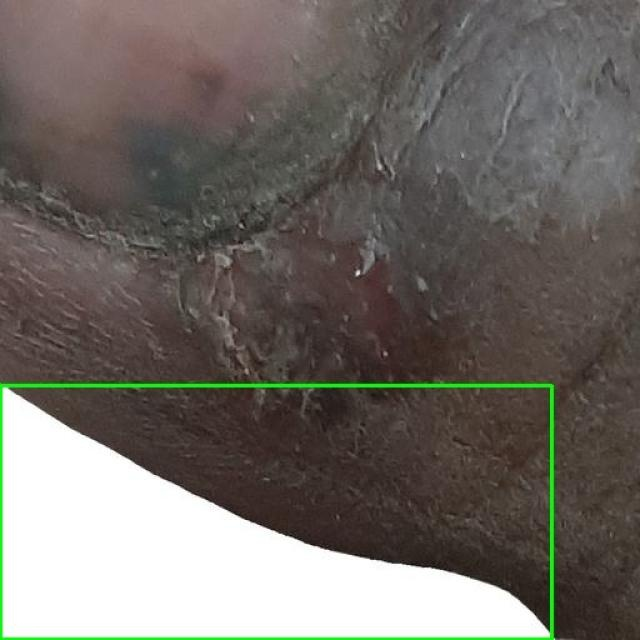Eczema: (0, 385, 551, 639)
